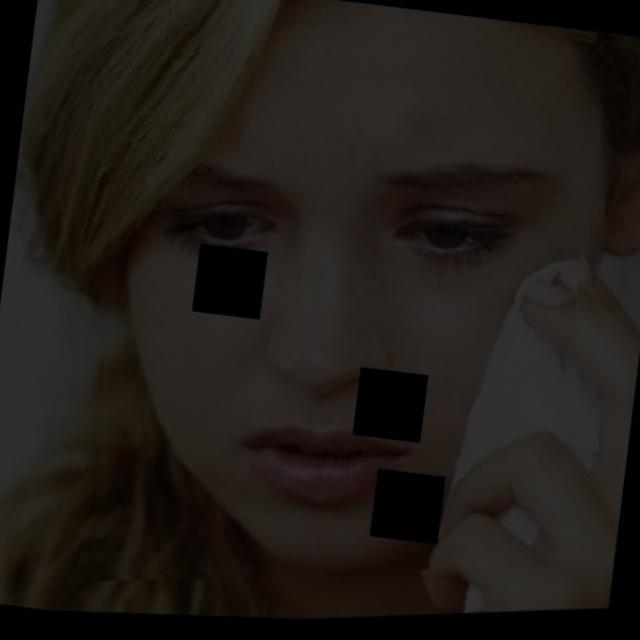Sad: (64, 103, 640, 531)
